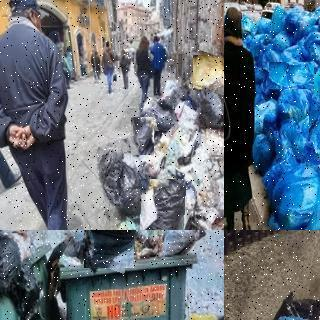Garbage: (95, 140, 145, 224), (265, 161, 320, 230), (139, 178, 185, 230), (80, 230, 137, 271), (277, 82, 320, 124), (137, 97, 177, 132), (263, 62, 314, 89), (190, 52, 224, 92), (195, 85, 224, 130), (0, 233, 25, 283), (248, 131, 277, 171), (305, 106, 320, 168), (131, 117, 154, 155), (248, 32, 273, 58), (261, 48, 286, 74), (301, 29, 320, 62), (267, 3, 287, 33), (294, 12, 315, 37), (288, 4, 302, 29)
